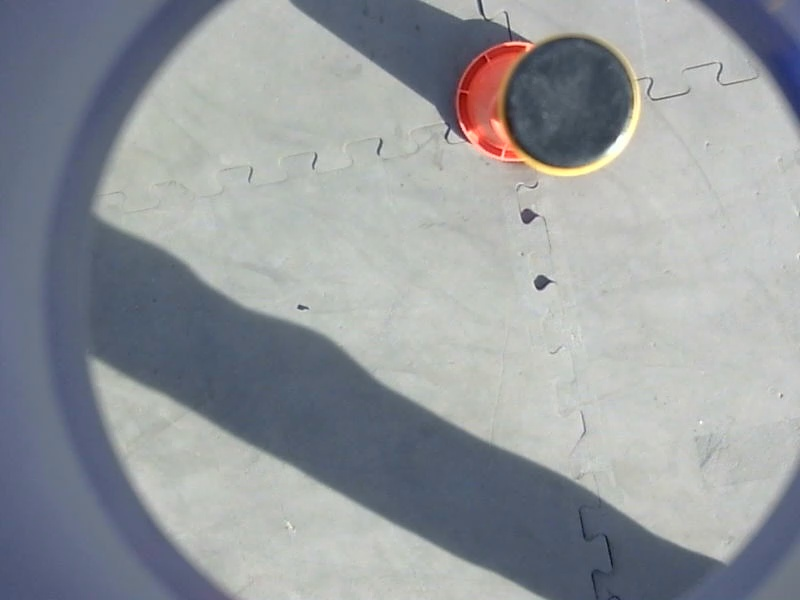tip: (491, 25, 649, 183)
